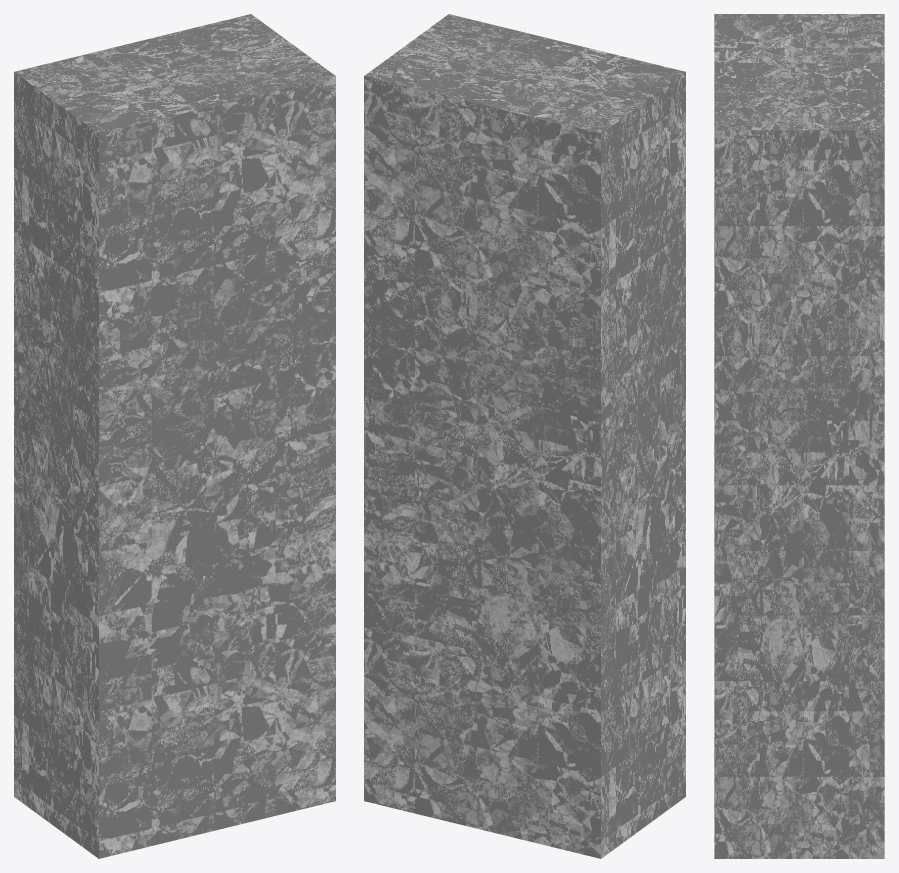
File: glowing_pillar.glb
3 views of the same model, side by side, from view 1: azimuth 30°, elevation 25°; view 2: azimuth 150°, elevation 25°; view 3: azimuth 270°, elevation 25° (orthographic).
Parts seen in each view (by area): view 1: glowing_column; view 2: glowing_column; view 3: glowing_column.
Boxes of the visible parts, x1,y1,x2,y2 form: glowing_column: (14, 14, 335, 858); glowing_column: (364, 14, 685, 858); glowing_column: (714, 14, 884, 858).
Size of the model in its own units: 3.24 by 9.48 by 2.01.
Materials: 1 (1 with a texture image).
